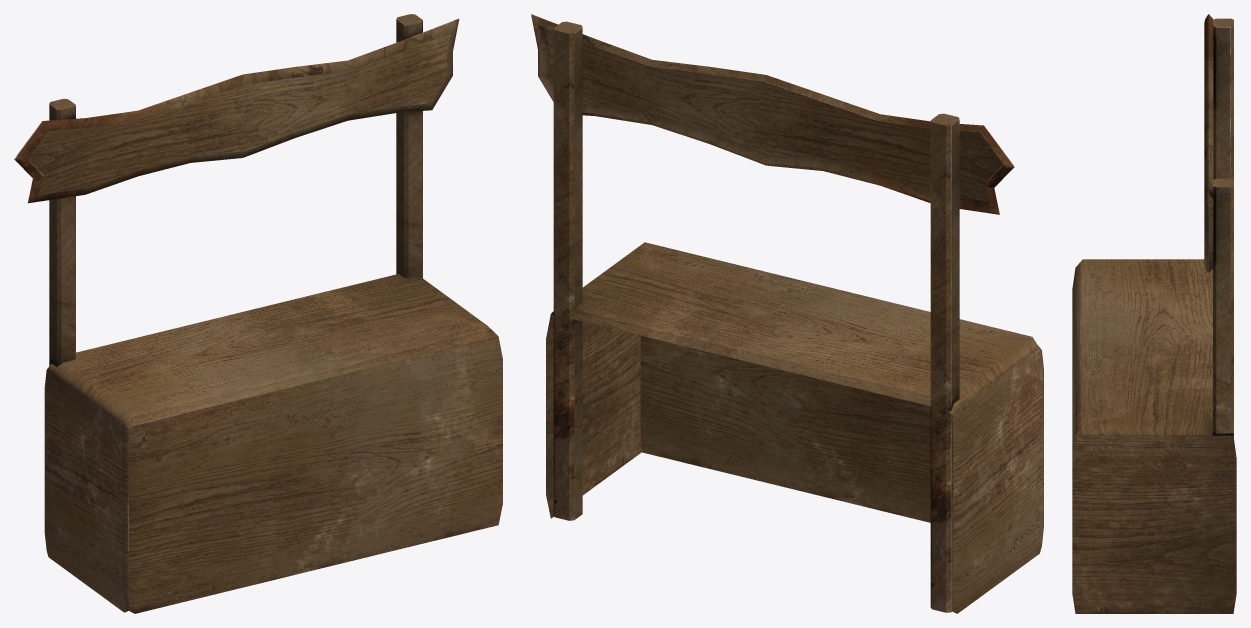
File: stand_nu.fbx
The picture shows the model from 3 angles, left to right: view 1: azimuth 30°, elevation 25°; view 2: azimuth 150°, elevation 25°; view 3: azimuth 270°, elevation 25°; orthographic projection. The views are drawn at different scales.
Visible parts, largest first — view 1: pCube1, pCube3, pCube2, pCube6; view 2: pCube1, pCube3, pCube2, pCube6; view 3: pCube1, pCube2, pCube6, pCube3.
Part boxes in pixels (x1=…): pCube1: x1=44, y1=274, x2=502, y2=613; pCube3: x1=14, y1=18, x2=459, y2=203; pCube2: x1=396, y1=14, x2=422, y2=278; pCube6: x1=49, y1=98, x2=75, y2=366; pCube1: x1=546, y1=242, x2=1043, y2=613; pCube3: x1=531, y1=14, x2=1014, y2=214; pCube2: x1=553, y1=21, x2=582, y2=520; pCube6: x1=930, y1=113, x2=959, y2=612; pCube1: x1=1072, y1=259, x2=1236, y2=613; pCube2: x1=1213, y1=178, x2=1233, y2=437; pCube6: x1=1213, y1=18, x2=1233, y2=179; pCube3: x1=1204, y1=14, x2=1213, y2=272.
Size of the model in its own units: 11.85 by 11.46 by 4.
